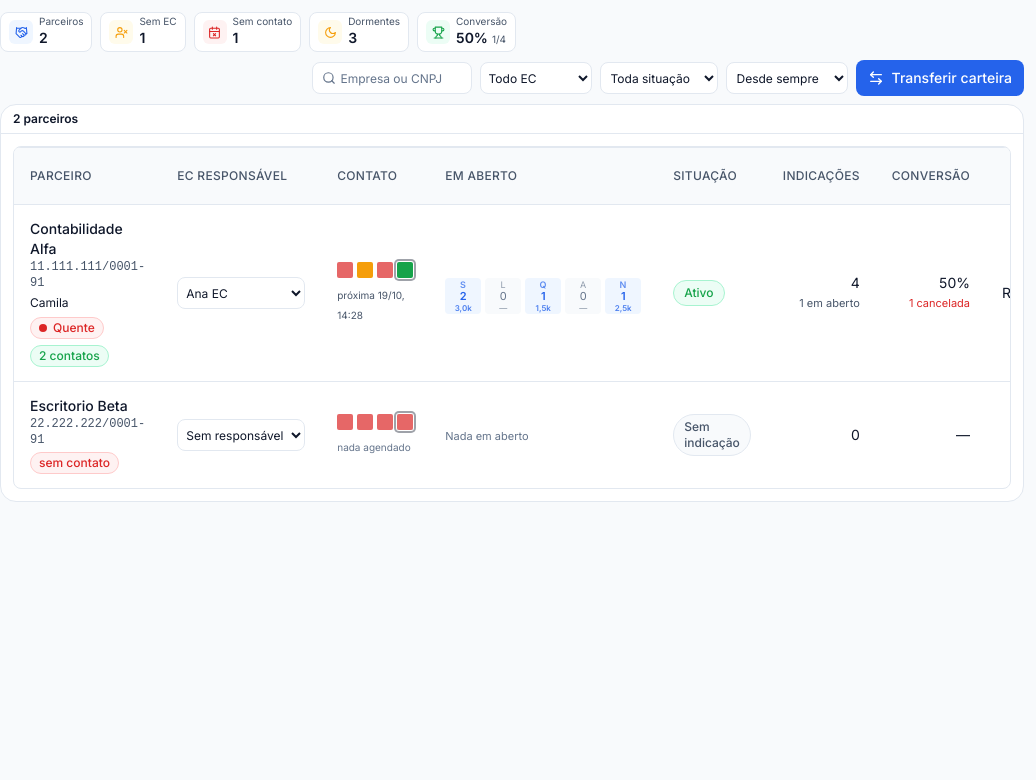
Test: Parceiros — trocar o EC na linha › erro ao salvar aparece na tela
expect the text "Contabilidade Alfa" is shown: met, box [30,220,123,257]
Select "Bruno EC" in the dropdown named "EC responsável por Contabilidade Alfa": {"x": 241, "y": 293} [177,277,305,309]
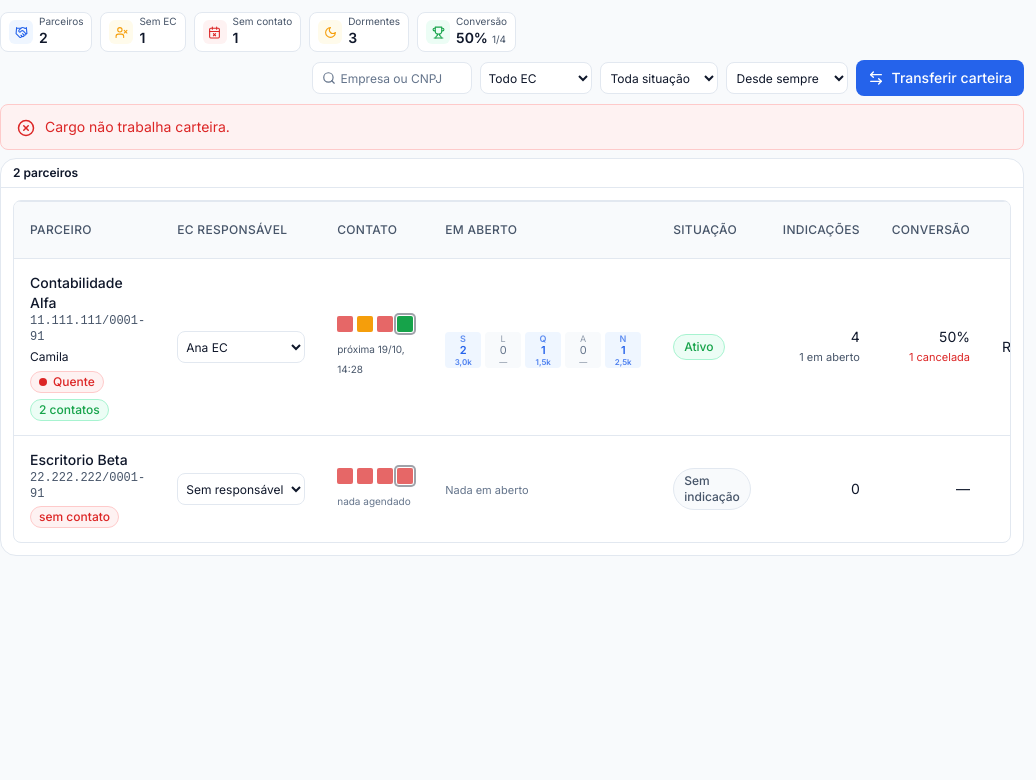
expect the text "Cargo não trabalha carteira." is shown: met, box [45,118,230,135]
